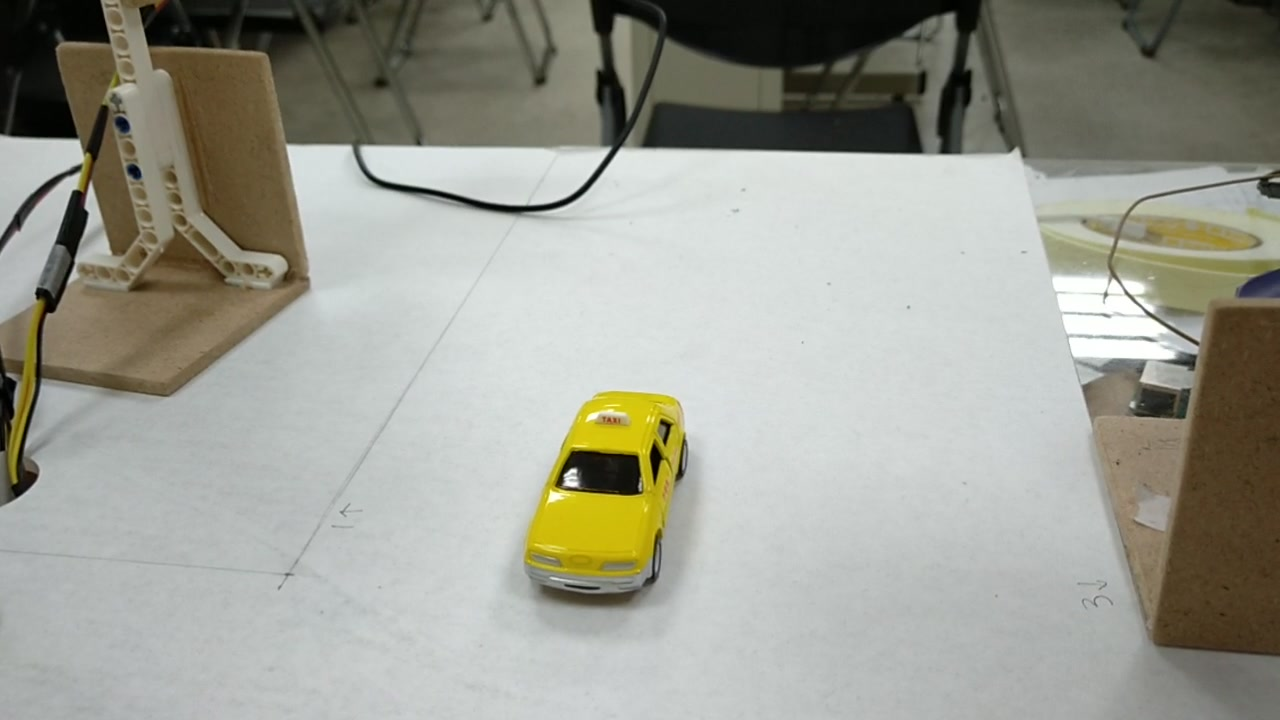car: (524, 382, 688, 604)
